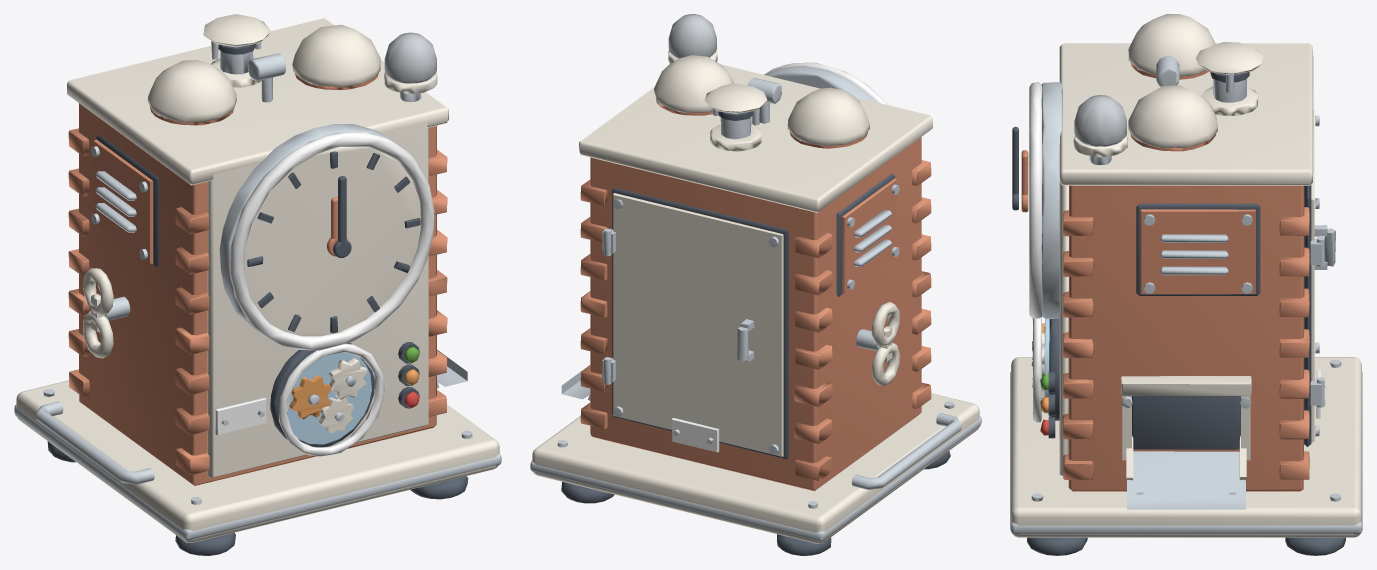
The model's file is fine_machine_clock.glb.
The picture shows the model from 3 angles, left to right: view 1: azimuth 30°, elevation 25°; view 2: azimuth 150°, elevation 25°; view 3: azimuth 270°, elevation 25°; orthographic projection. The views are drawn at different scales.
Visible parts, largest first — view 1: fine_machine_clock_structure, lamp, hand_minute; view 2: fine_machine_clock_structure, lamp; view 3: fine_machine_clock_structure, lamp, hand_minute, hand_hour.
Boxes of the visible parts, x1=… form: fine_machine_clock_structure: x1=14, y1=14, x2=501, y2=555; lamp: x1=384, y1=32, x2=436, y2=83; hand_minute: x1=333, y1=176, x2=351, y2=257; fine_machine_clock_structure: x1=530, y1=50, x2=981, y2=555; lamp: x1=668, y1=14, x2=716, y2=58; fine_machine_clock_structure: x1=1010, y1=14, x2=1362, y2=555; lamp: x1=1074, y1=95, x2=1126, y2=146; hand_minute: x1=1012, y1=126, x2=1018, y2=210; hand_hour: x1=1021, y1=150, x2=1028, y2=212.
Bounding box in the file's own units: 3.2 × 3.72 × 2.67.
